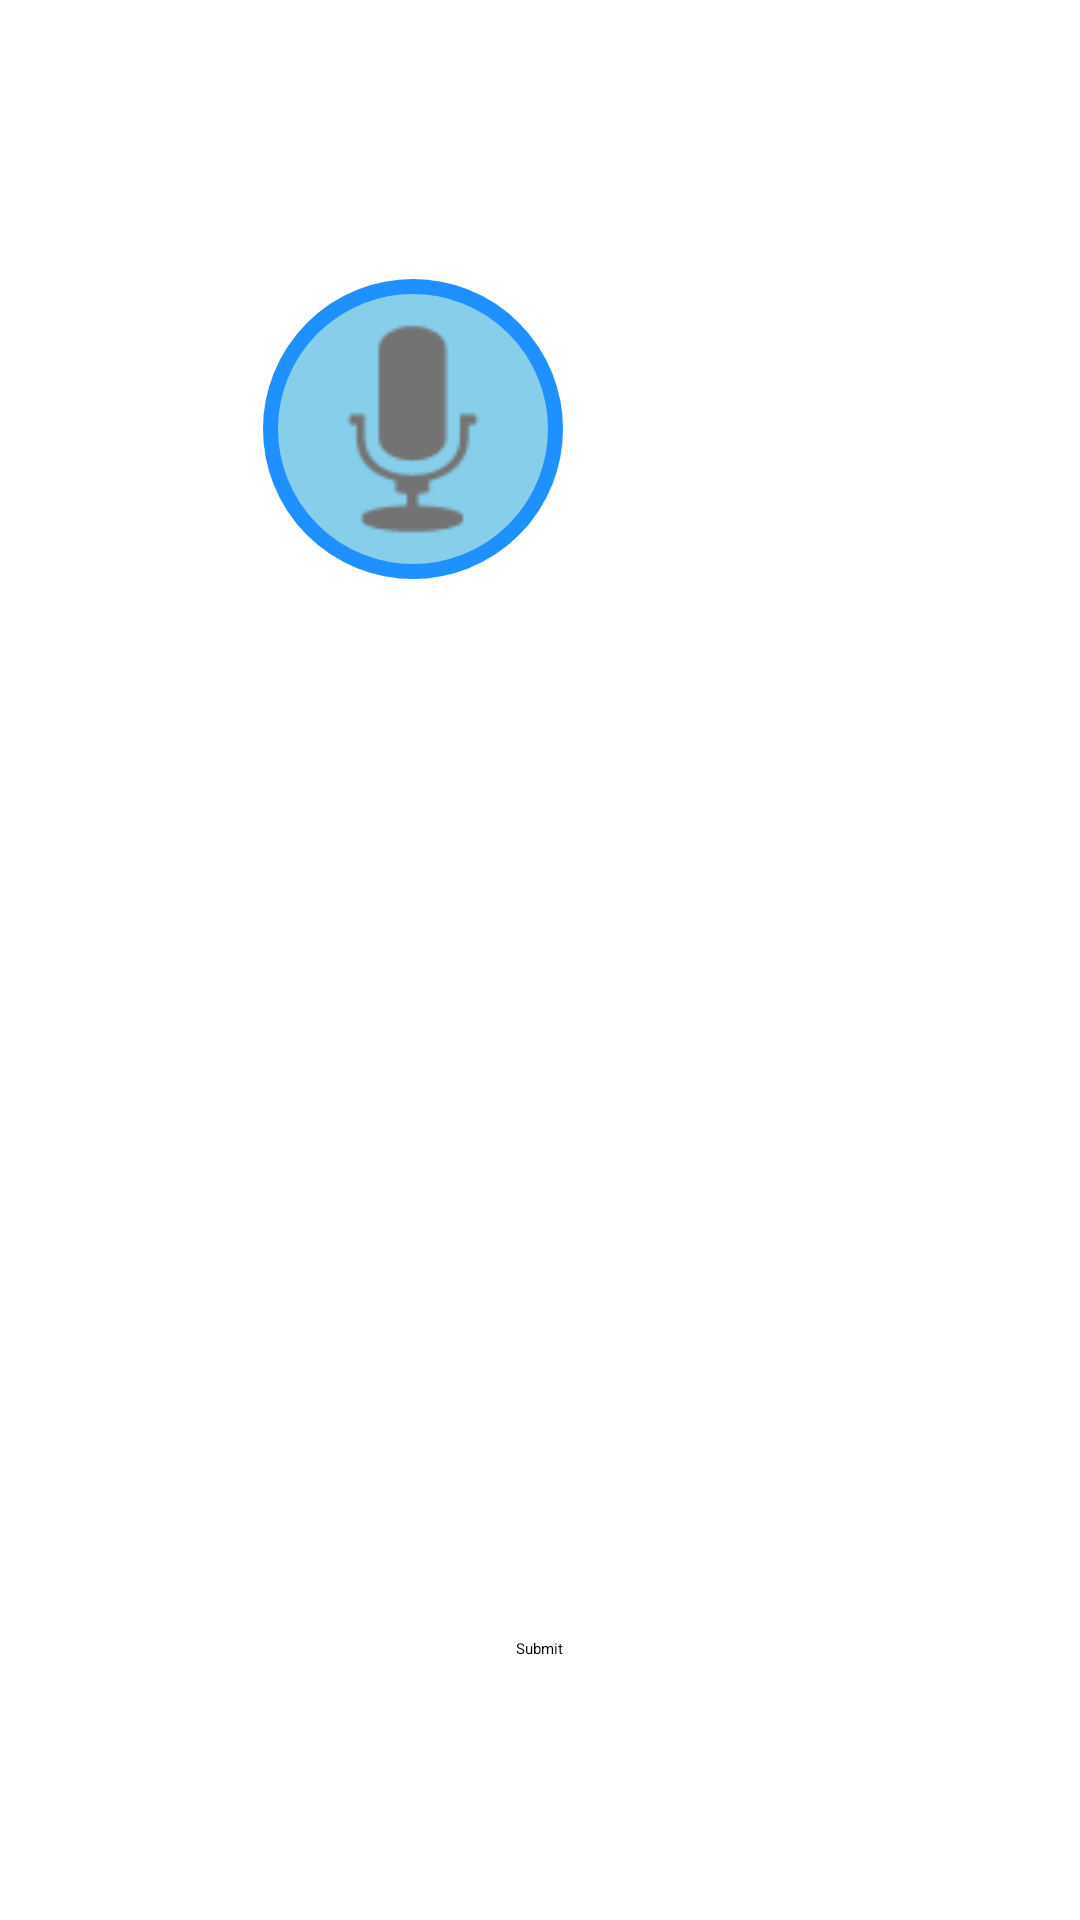

Screen size 1080 × 1920. Icon name, then its center in pixels as (x=x, y=y):
speak: (x=413, y=429)
